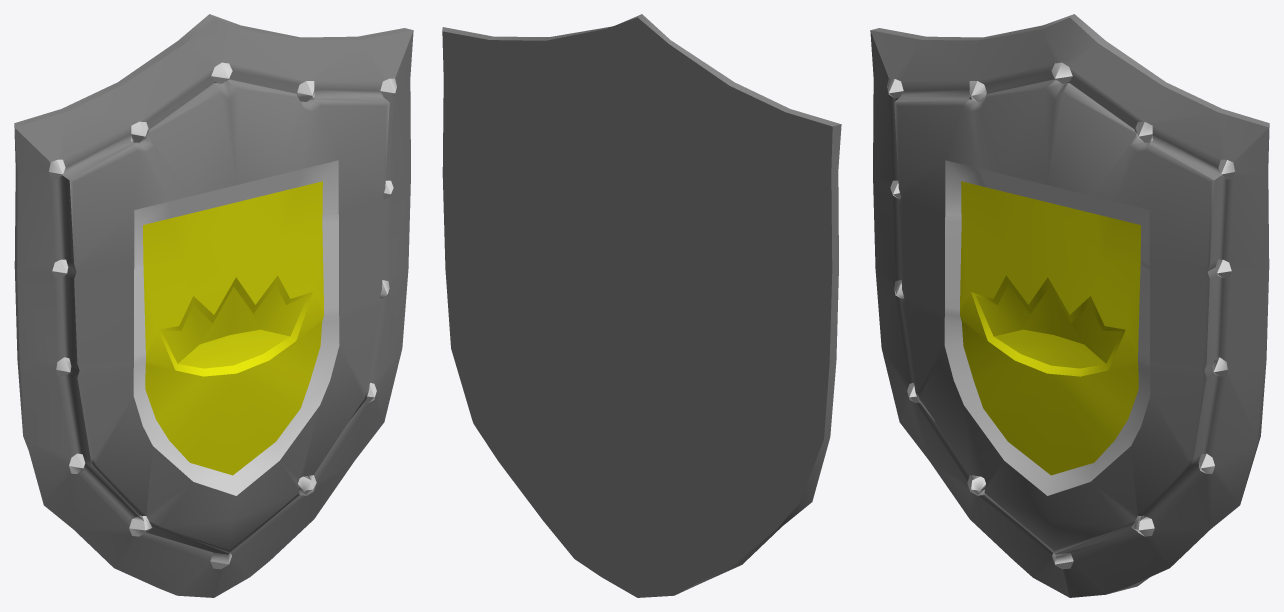
The model's file is shield.fbx.
3 views of the same model, side by side, from view 1: azimuth 30°, elevation 25°; view 2: azimuth 150°, elevation 25°; view 3: azimuth 330°, elevation 25° (orthographic).
Parts seen in each view (by area): view 1: polySurface13; view 2: polySurface13; view 3: polySurface13.
Boxes of the visible parts, x1,y1,x2,y2 form: polySurface13: [14, 14, 413, 597]; polySurface13: [442, 14, 841, 597]; polySurface13: [870, 14, 1269, 597].
Bounding box in the file's own units: 7.14 × 9.92 × 0.8426.
